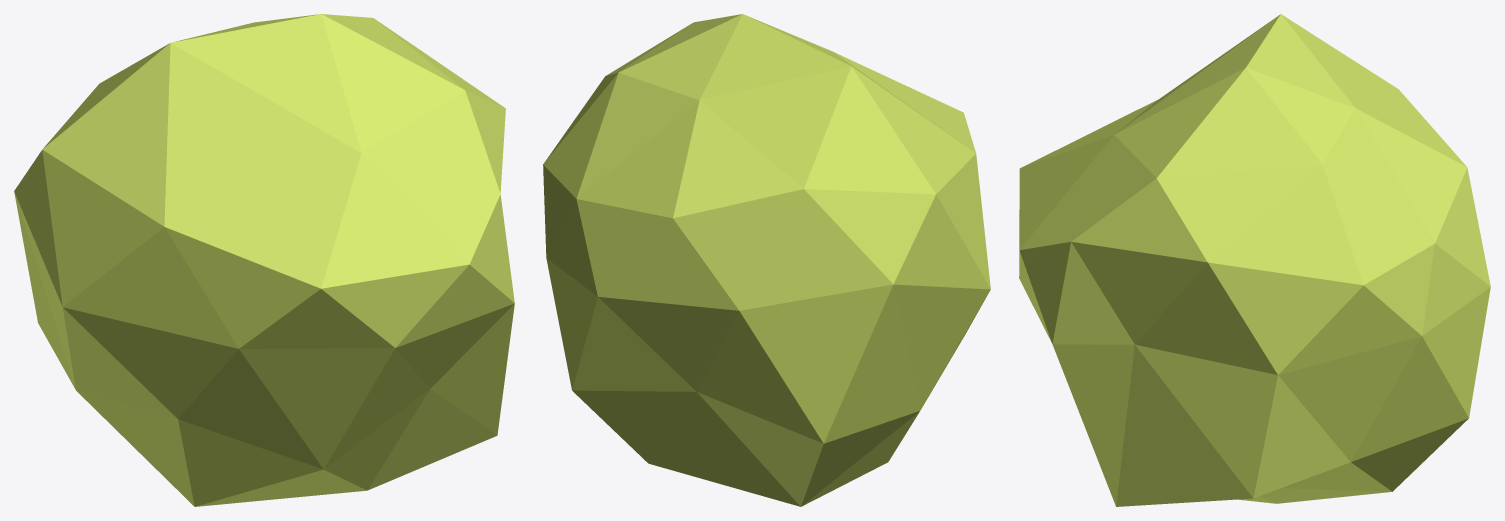
File: feuillage_02.glb
3 views of the same model, side by side, from view 1: azimuth 30°, elevation 25°; view 2: azimuth 150°, elevation 25°; view 3: azimuth 270°, elevation 25° (orthographic). The views are drawn at different scales.
Parts seen in each view (by area): view 1: feuillage_02; view 2: feuillage_02; view 3: feuillage_02.
Boxes of the visible parts, bbox=[...] form: feuillage_02: bbox=[14, 14, 514, 506]; feuillage_02: bbox=[543, 14, 990, 506]; feuillage_02: bbox=[1019, 14, 1490, 506].
Size of the model in its own units: 1.99 by 1.99 by 1.89.
